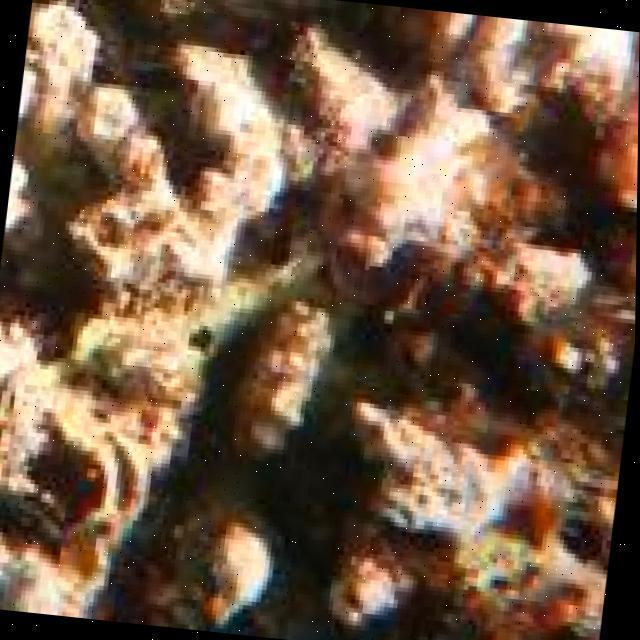Bleached Coral: (0, 0, 415, 299)
